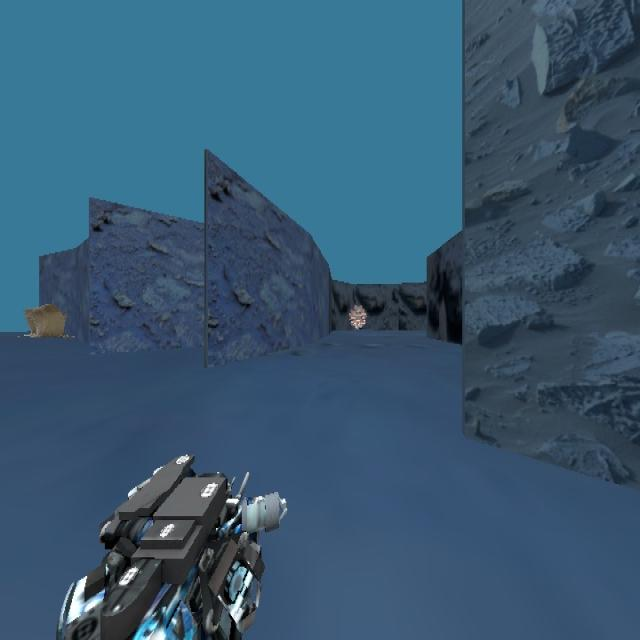Ice: (0, 284, 78, 351)
Mushroom: (349, 303, 367, 329)
